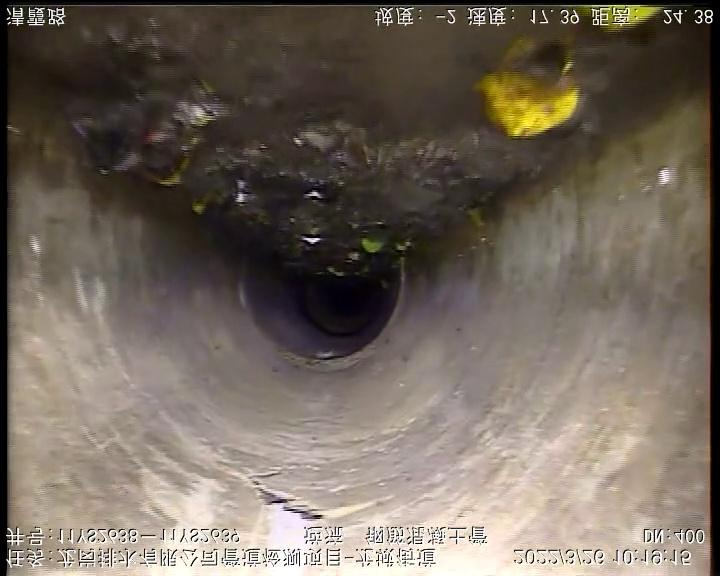CJ: (73, 41, 581, 275)
CKTJ: (235, 246, 413, 376)
PL: (247, 470, 323, 527)
